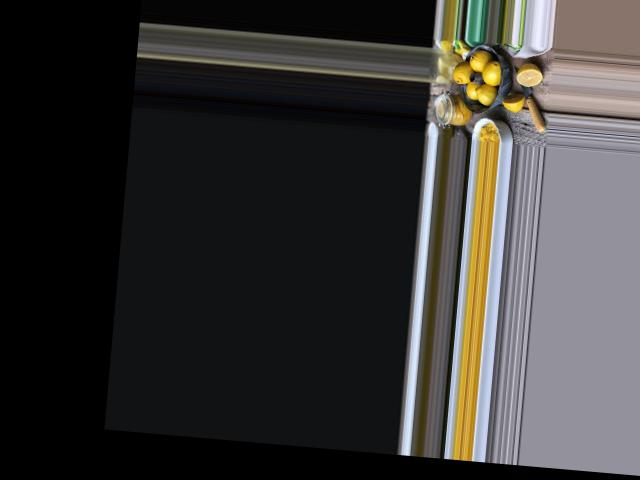lemon: (475, 84, 498, 106)
